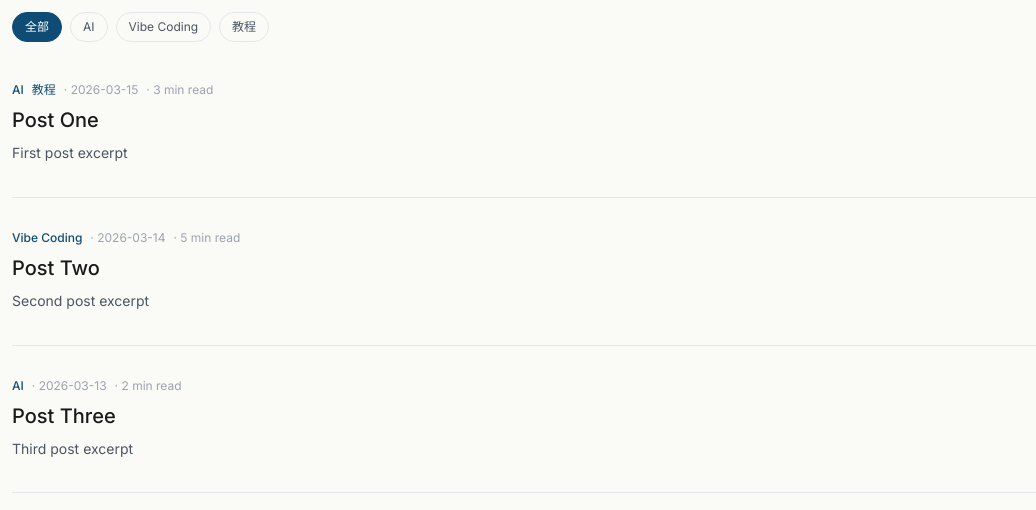
Test: BlogList › filters posts by tag when clicked
The width and height of the screenshot is (1036, 510).
What coordinates should you click on to do the following:
click the button "Vibe Coding"
I would click on:
 (163, 27)
Its box is top-left (116, 12), bottom-right (211, 42).
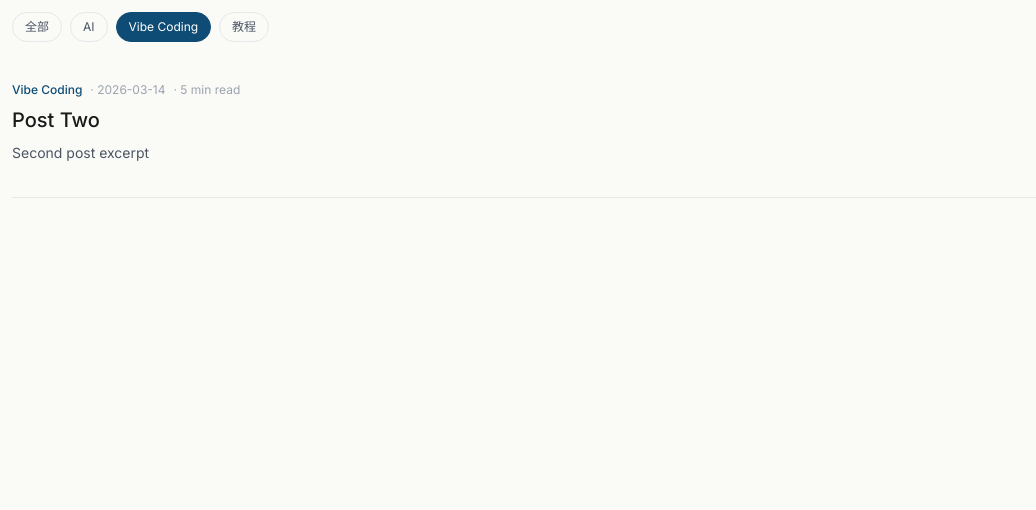
Expected: the heading "Post Two" is shown, top-left (12, 108), bottom-right (100, 132)
Expected: the link "Post One" is gone
Expected: the link "Post Three" is gone
